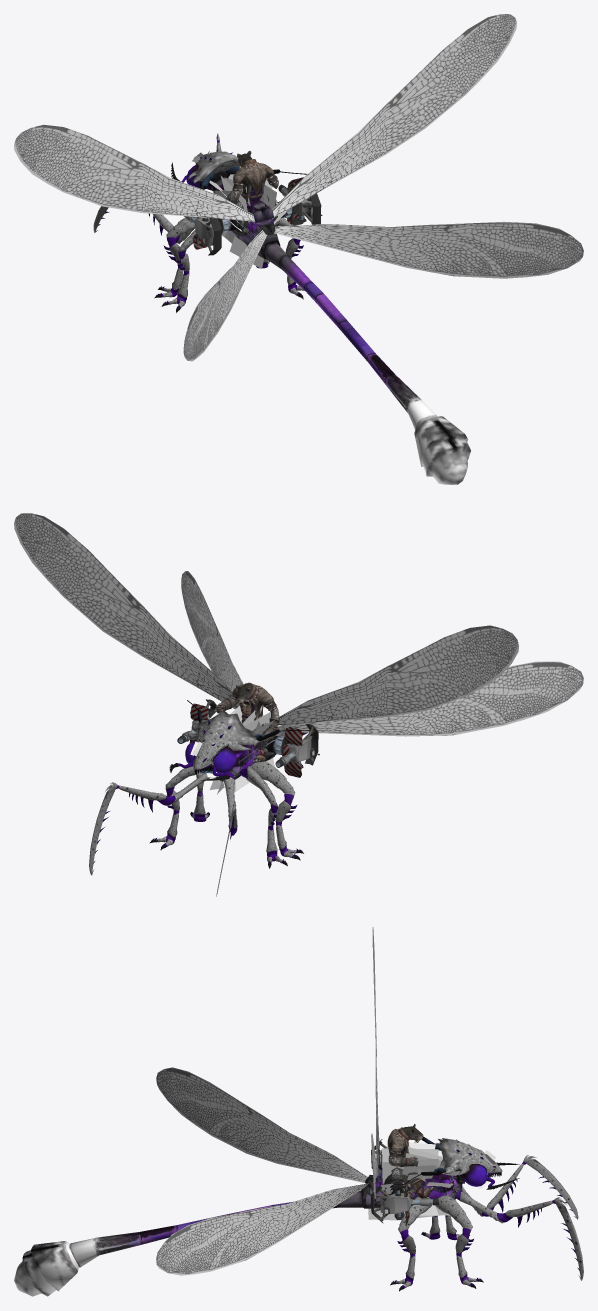
The model's file is saurslayer.glb.
The picture shows the model from 3 angles, top to bottom: view 1: azimuth 30°, elevation 25°; view 2: azimuth 150°, elevation 25°; view 3: azimuth 270°, elevation 25°; orthographic projection. The views are drawn at different scales.
Parts seen in each view (by area): view 1: R_Bwing, R_Fwing, L_Fwing, L_Bwing, turret01, body, turret04-arms, rider, tail06, turret02-arms, turret03-arms; view 2: L_Fwing, R_Fwing, L_Bwing, turret04-arms, R_Bwing, rider, body, turret02-arms, R_arm02, L_Bleg, L_Bknee, turret03-arms (+1 smaller); view 3: L_Bwing, R_Bwing, body, turret01, turret04-arms, rider, tail06, turret03-arms, L_arm02, R_arm02, R_Fleg, L_Fwing.
Part boxes in pixels (x1,y1,x2,y2): R_Bwing: [274, 221, 583, 278]; R_Fwing: [272, 14, 516, 218]; L_Fwing: [14, 124, 254, 221]; L_Bwing: [183, 230, 267, 361]; turret01: [414, 416, 470, 484]; body: [209, 174, 288, 268]; turret04-arms: [171, 151, 307, 191]; rider: [226, 151, 278, 203]; tail06: [385, 375, 436, 429]; turret02-arms: [184, 216, 221, 255]; turret03-arms: [278, 177, 322, 225]; L_Fwing: [278, 625, 518, 725]; R_Fwing: [14, 513, 239, 709]; L_Bwing: [277, 661, 583, 736]; turret04-arms: [169, 700, 310, 780]; R_Bwing: [181, 571, 243, 691]; rider: [215, 682, 279, 762]; body: [209, 705, 284, 796]; turret02-arms: [275, 724, 319, 777]; R_arm02: [89, 782, 171, 875]; L_Bleg: [250, 761, 295, 801]; L_Bknee: [275, 796, 297, 851]; turret03-arms: [177, 699, 216, 743]; L_Bwing: [156, 1067, 367, 1183]; R_Bwing: [156, 1183, 368, 1275]; body: [337, 1142, 464, 1220]; turret01: [14, 1241, 78, 1296]; turret04-arms: [403, 1136, 519, 1189]; rider: [387, 1124, 434, 1198]; tail06: [69, 1232, 142, 1267]; turret03-arms: [371, 1177, 438, 1226]; L_arm02: [483, 1155, 578, 1219]; R_arm02: [501, 1197, 583, 1280]; R_Fleg: [435, 1195, 472, 1234]; L_Fwing: [372, 927, 380, 1164].
Size of the model in its own units: 196 by 104 by 207.
Materials: 3 (2 with a texture image).
